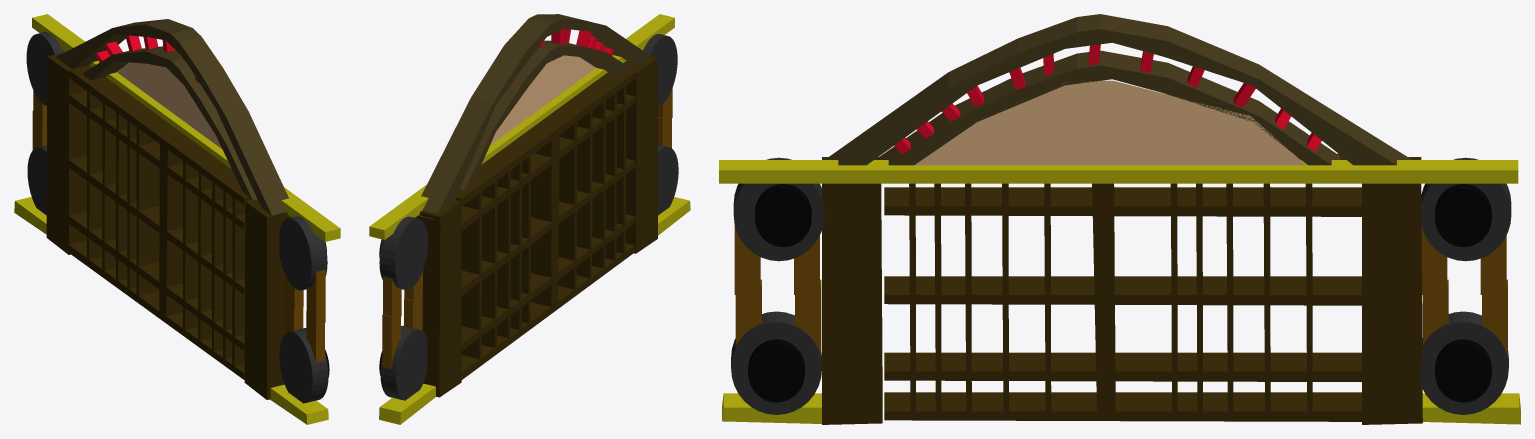
File: gate.fbx
3 views of the same model, side by side, from view 1: azimuth 30°, elevation 25°; view 2: azimuth 150°, elevation 25°; view 3: azimuth 270°, elevation 25° (orthographic). The views are drawn at different scales.
Visible parts, largest first — view 1: Cube.016, Cube.003, Cube.005, Cube, Cube.002, Circle.003, Circle.002, Cube.001, Cube.008, Circle.001, Circle, Cube.007 (+2 smaller); view 2: Cube.016, Cube.003, Cube.005, Cube, Cube.002, Circle.001, Circle, Cube.001, Cube.006, Circle.003, Circle.002, Cube.004 (+2 smaller); view 3: Cube.016, Cube.002, Cube.003, Cube.005, Cube, Circle.002, Circle, Cube.001, Circle.001, Circle.003, Circle.004, Circle.005 (+7 smaller).
Boxes of the visible parts, <box> form: Cube.016: <box>46,52,291,399</box>; Cube.003: <box>56,19,288,215</box>; Cube.005: <box>32,14,340,241</box>; Cube: <box>83,46,257,199</box>; Cube.002: <box>117,62,222,149</box>; Circle.003: <box>279,216,327,290</box>; Circle.002: <box>279,328,328,403</box>; Cube.001: <box>14,197,328,424</box>; Cube.008: <box>306,269,325,362</box>; Circle.001: <box>26,32,64,105</box>; Circle: <box>27,145,46,215</box>; Cube.007: <box>284,274,303,334</box>; Cube.016: <box>415,56,657,397</box>; Cube.003: <box>418,14,651,219</box>; Cube.005: <box>369,14,674,239</box>; Cube: <box>459,40,632,190</box>; Cube.002: <box>490,55,595,145</box>; Circle.001: <box>379,216,427,289</box>; Circle: <box>380,325,427,400</box>; Cube.001: <box>379,197,690,424</box>; Cube.006: <box>382,276,401,369</box>; Circle.003: <box>643,34,677,106</box>; Circle.002: <box>658,144,678,215</box>; Cube.004: <box>404,271,422,330</box>; Cube.016: <box>822,153,1422,424</box>; Cube.002: <box>914,80,1305,165</box>; Cube.003: <box>825,14,1411,165</box>; Cube.005: <box>719,160,1518,183</box>; Cube: <box>876,50,1339,165</box>; Circle.002: <box>731,311,821,414</box>; Circle: <box>1418,311,1508,414</box>; Cube.001: <box>722,393,1520,424</box>; Circle.001: <box>1421,157,1511,261</box>; Circle.003: <box>733,157,824,261</box>; Circle.004: <box>748,339,804,402</box>; Circle.005: <box>1435,339,1491,402</box>.
Bounding box in the file's own units: 12.75 × 98.7 × 180.
Materials: 8 (1 with a texture image).
